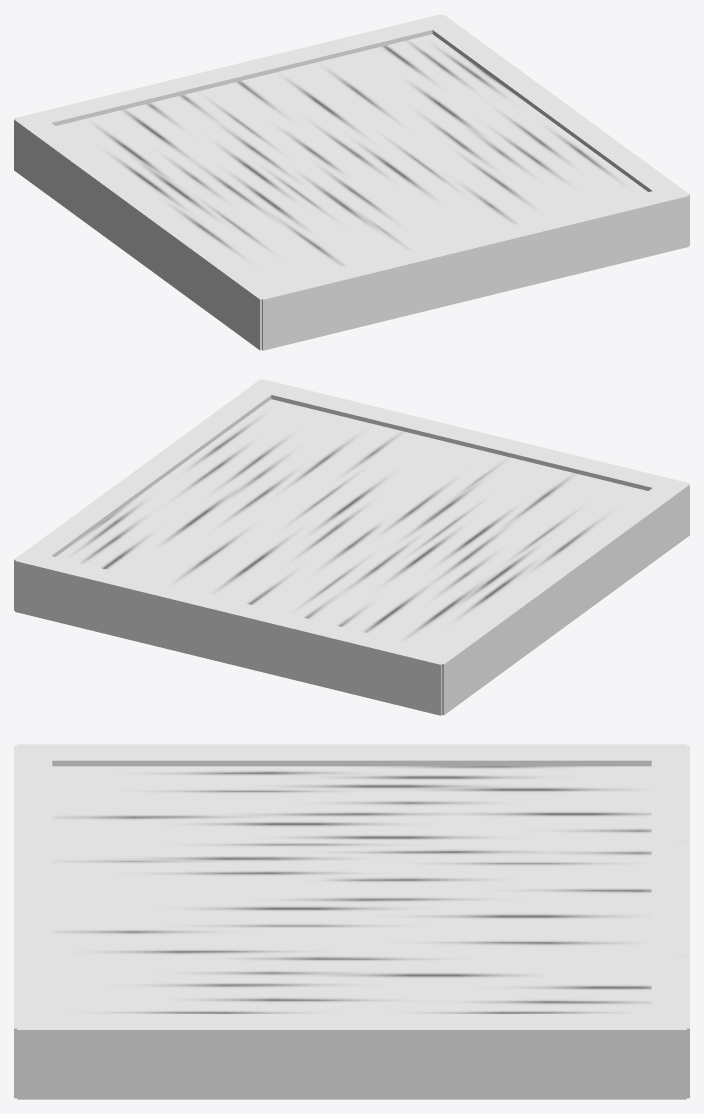
Rendered from Ceiling Tile.fbx.
3 renders of one model, top to bottom at view 1: azimuth 30°, elevation 25°; view 2: azimuth 150°, elevation 25°; view 3: azimuth 270°, elevation 25°, orthographic. The views are drawn at different scales.
Visible parts, largest first — view 1: Cube.001; view 2: Cube.001; view 3: Cube.001.
Boxes of the visible parts, <box> form: Cube.001: <box>14,14,689,350</box>; Cube.001: <box>14,379,689,715</box>; Cube.001: <box>14,744,689,1099</box>.
Size of the model in its own units: 212 by 24 by 212.
1 material, 1 textured.
